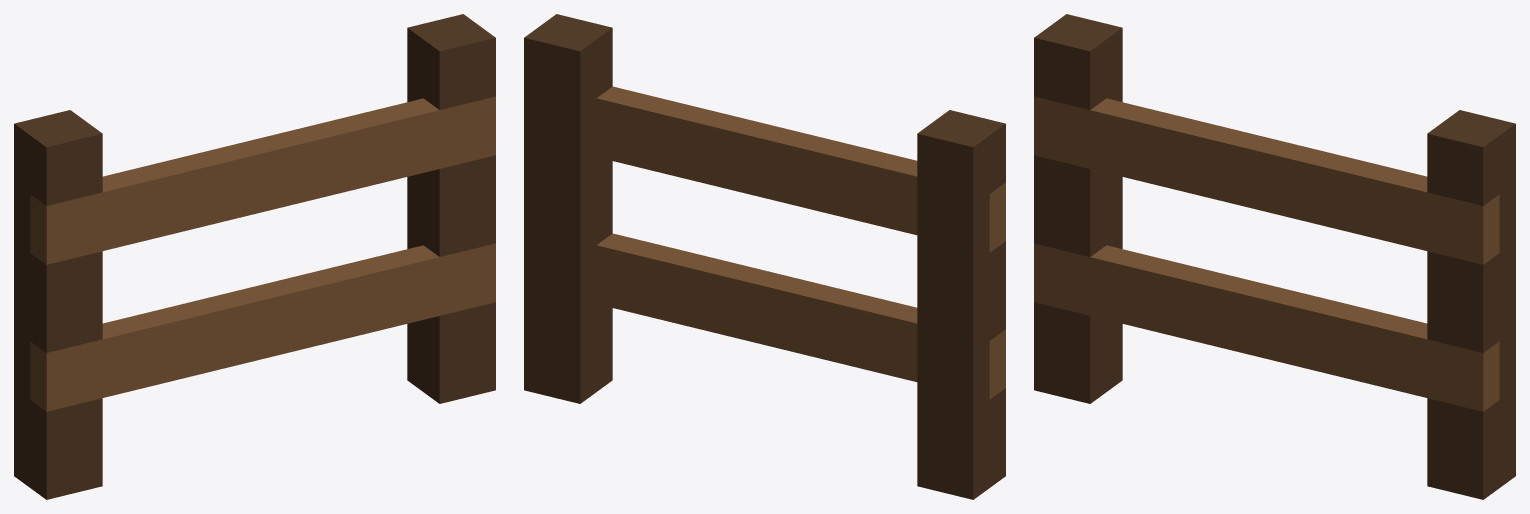
File: cerca.obj
3 renders of one model, left to right at view 1: azimuth 30°, elevation 25°; view 2: azimuth 150°, elevation 25°; view 3: azimuth 330°, elevation 25°, orthographic.
Size of the model in its own units: 16 by 12 by 2.
